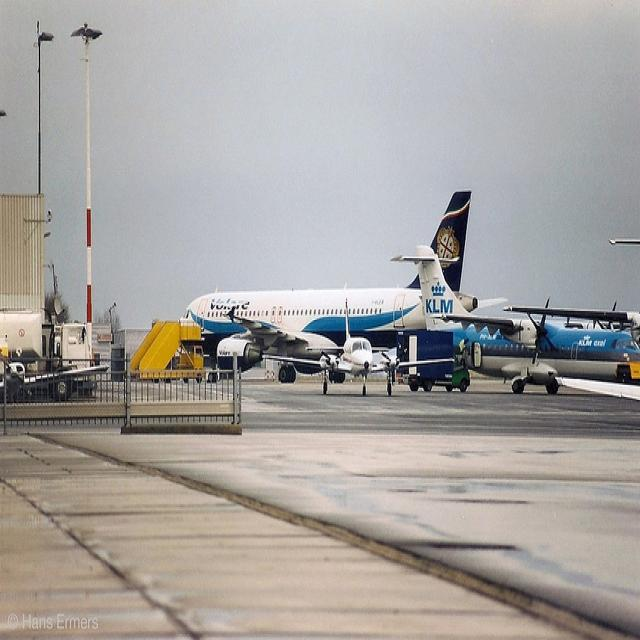Vehicle: (0, 198, 106, 397), (128, 320, 206, 384), (398, 330, 471, 392)
